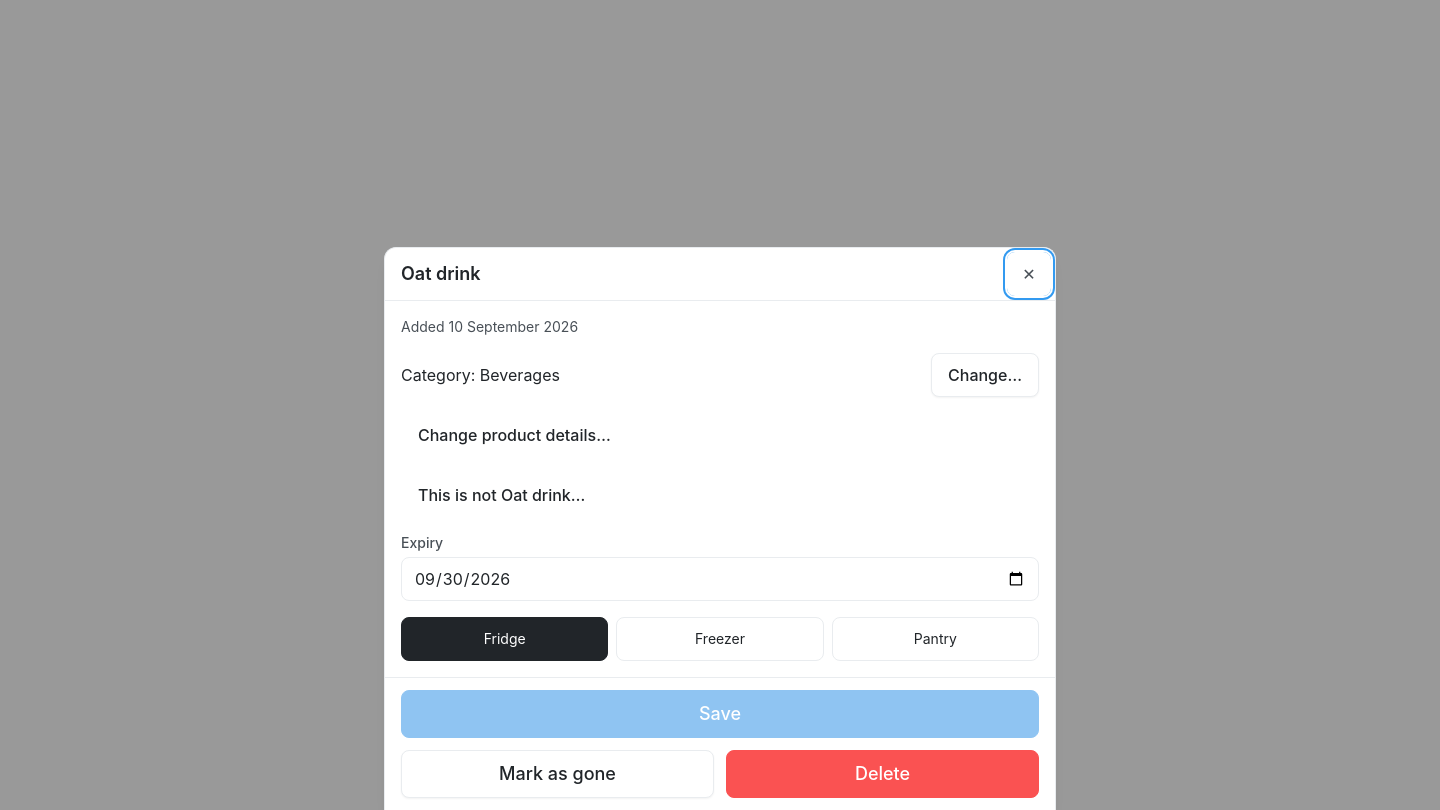
Test: ItemEditSheet › keeps the sheet open with an API error message
The image size is (1440, 810).
Type "2026-10-03" into the date field labelled "Expiry" at (720, 579), box top-left (401, 557), bottom-right (1039, 601)
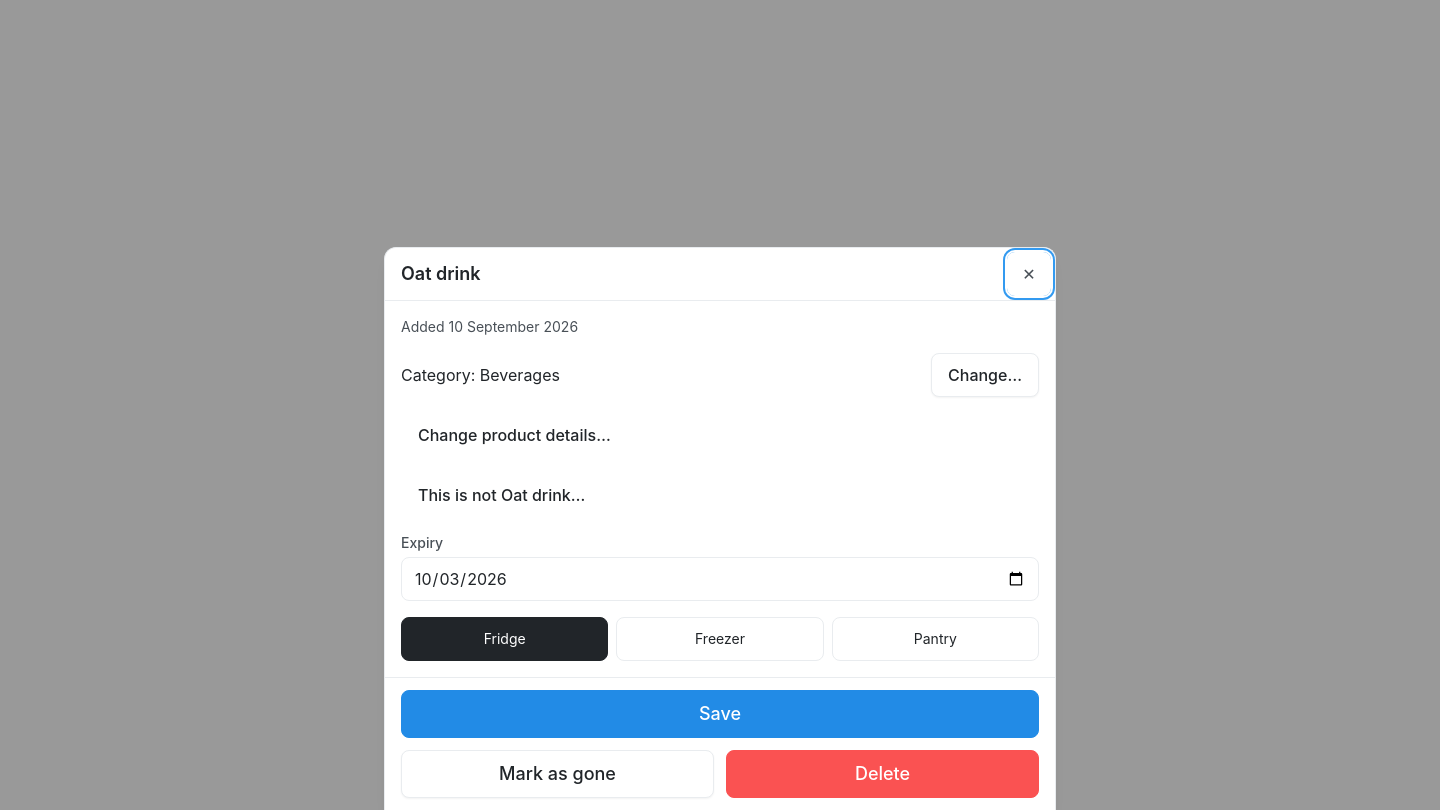
Click the button "Save" at (720, 714), box top-left (401, 690), bottom-right (1039, 738)
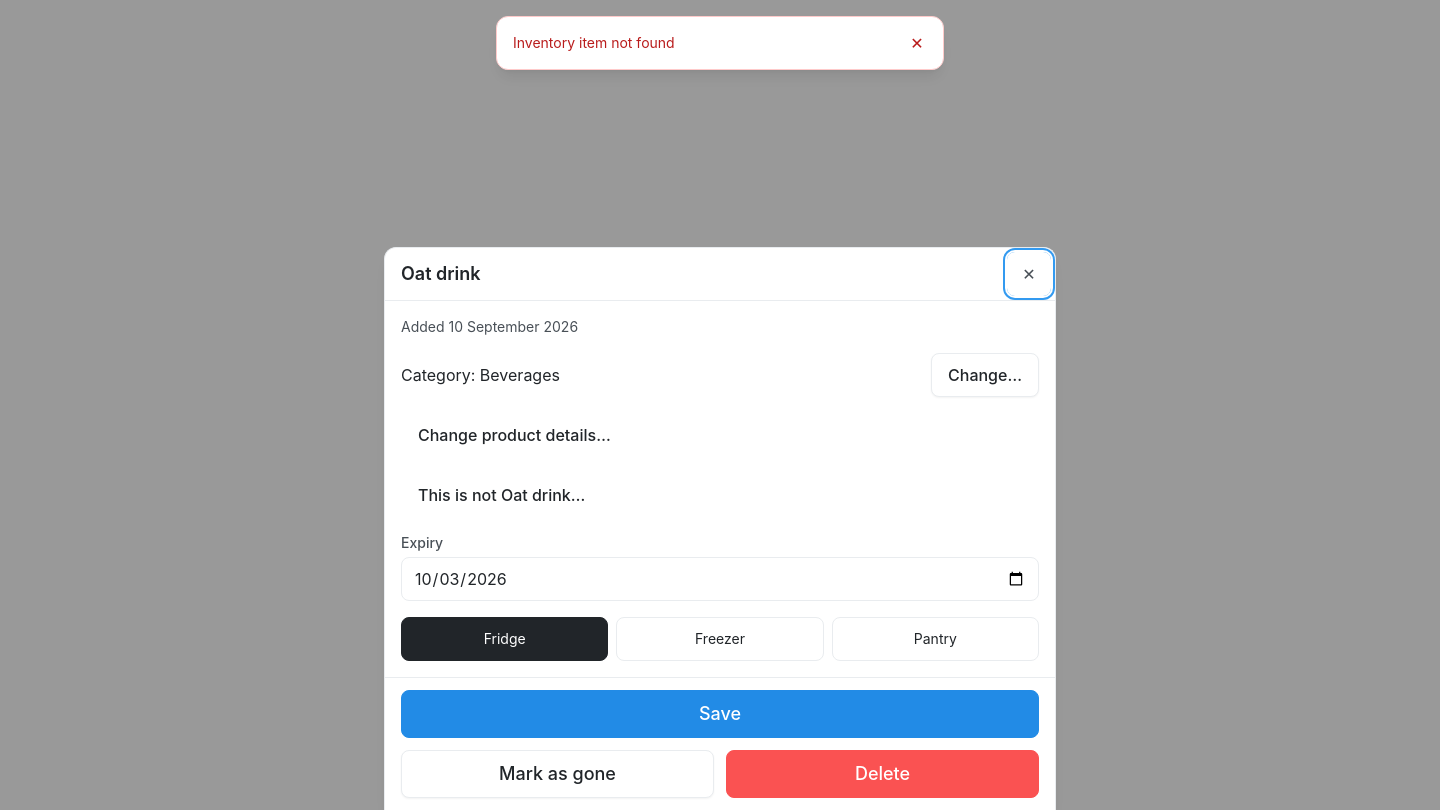
Now the text "Inventory item not found" is shown, box top-left (513, 34), bottom-right (675, 51)
